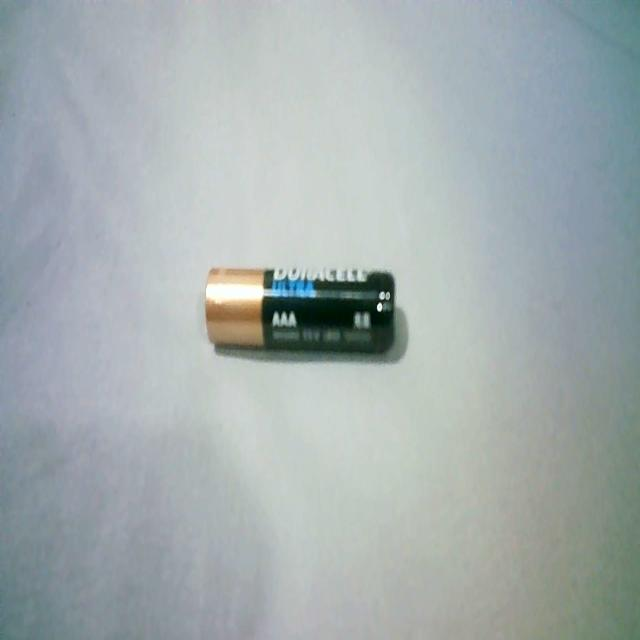AAA: (200, 254, 400, 365)
